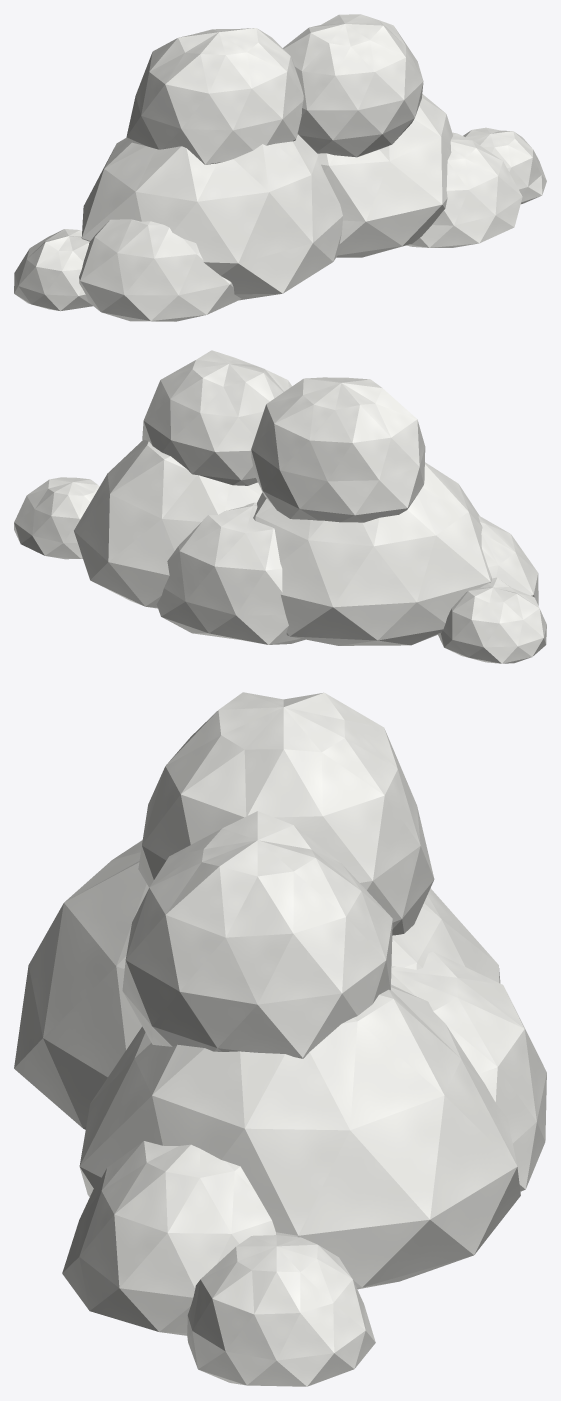
The model's file is cloud_cumulus_small.obj.
3 views of the same model, one above another, from view 1: azimuth 30°, elevation 25°; view 2: azimuth 150°, elevation 25°; view 3: azimuth 270°, elevation 25° (orthographic). The views are drawn at different scales.
Parts seen in each view (by area): view 1: cloud_cumulus_small; view 2: cloud_cumulus_small; view 3: cloud_cumulus_small.
Part boxes in pixels (x1,y1,x2,y2): cloud_cumulus_small: (14,14,546,321); cloud_cumulus_small: (14,350,546,663); cloud_cumulus_small: (14,692,546,1386).
Bounding box in the file's own units: 8.82 × 3.71 × 4.32.
1 material, 1 textured.
